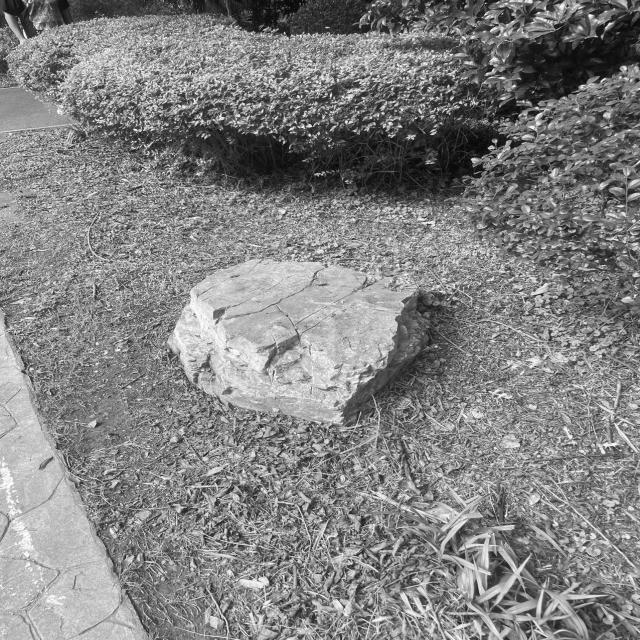Stone: (168, 260, 428, 423)
